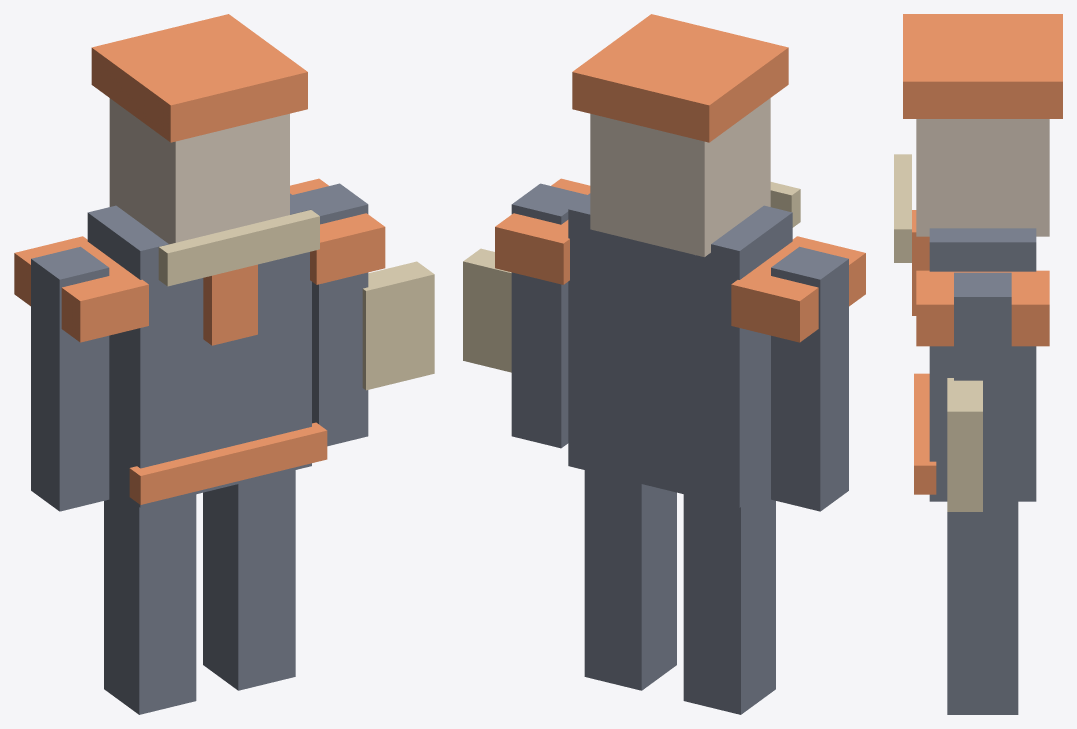
Rendered from 15_luma_skyharrow_ranger_from_troop.glb.
3 views of the same model, side by side, from view 1: azimuth 30°, elevation 25°; view 2: azimuth 150°, elevation 25°; view 3: azimuth 270°, elevation 25° (orthographic).
Visible parts, largest first — view 1: Luma Skyharrow, Ranger from Troop; view 2: Luma Skyharrow, Ranger from Troop; view 3: Luma Skyharrow, Ranger from Troop.
Boxes of the visible parts, x1,y1,x2,y2 form: Luma Skyharrow, Ranger from Troop: (14,14,434,714); Luma Skyharrow, Ranger from Troop: (463,14,865,714); Luma Skyharrow, Ranger from Troop: (894,14,1062,714).
Size of the model in its own units: 0.9387 by 1.5 by 0.3659.
